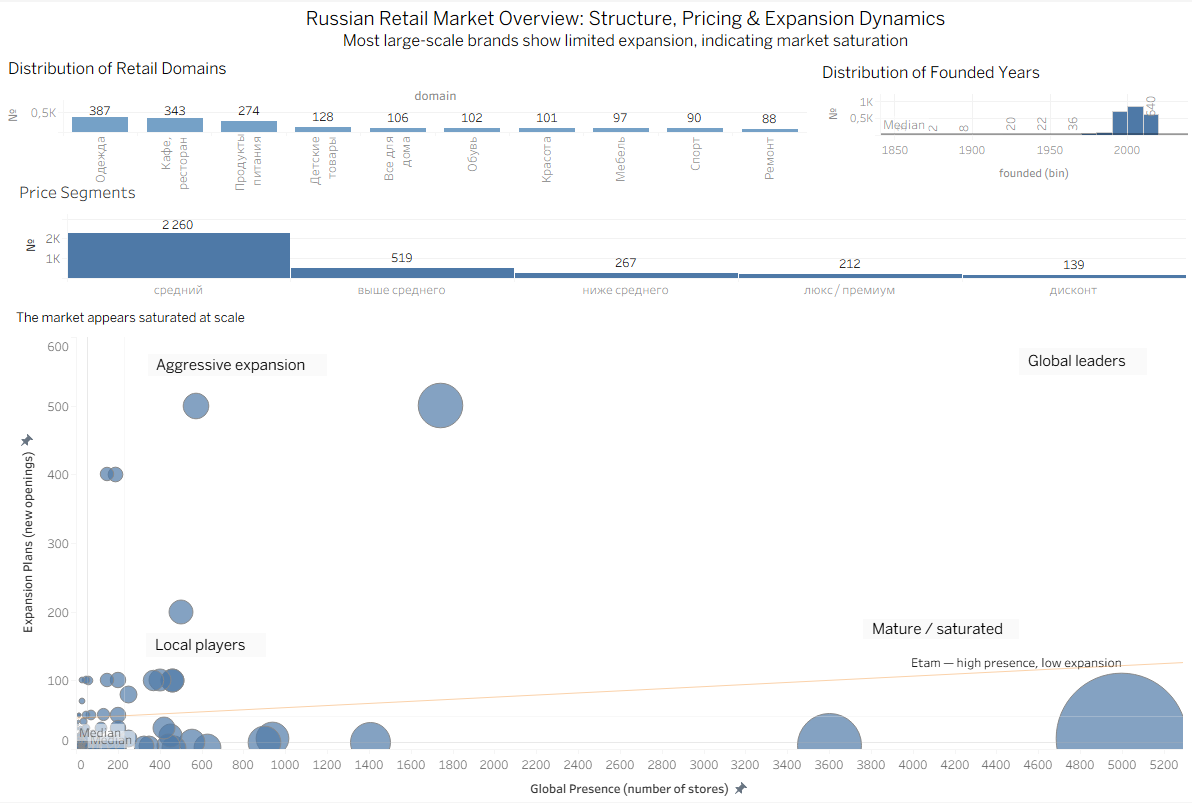

What the dashboard file says about the page in this screenshot:
{"tool":"tableau","page":{"name":"Dashboard 2","canvas":[1200,800],"ordinal":0},"visuals":[{"type":"worksheet","title":"Domain Distribution","mark":"Bar","rows":["russian_retail.csv_4D0DEE67E0E24D649D086935521CE441"],"cols":["domain"],"box":[5,52,803,138]},{"type":"worksheet","title":"Founded Distribution","mark":"Bar","rows":["russian_retail.csv_4D0DEE67E0E24D649D086935521CE441"],"cols":["founded (bin)"],"box":[819,56,370,129]},{"type":"worksheet","title":"Price Category Distribution","mark":"Automatic","rows":["count"],"cols":["label"],"box":[16,174,1171,123]},{"type":"text","box":[454.3,244.4,336.3,27.8]},{"type":"worksheet","title":"Global Presence vs Expansion Plans","mark":"Circle","rows":["plans"],"cols":["presence_world"],"box":[13,303,1171,499]}]}

Visuals, with their boxes in screenshot pixels (x1, y1, x2, y2), scaled from the page's 1200x800 canvas onto the 1192x809 screenshot:
"Domain Distribution" worksheet (Bar marks): 5 53 803 192
"Founded Distribution" worksheet (Bar marks): 814 57 1181 187
"Price Category Distribution" worksheet: 16 176 1179 300
text: 451 247 785 275
"Global Presence vs Expansion Plans" worksheet (Circle marks): 13 306 1176 808
